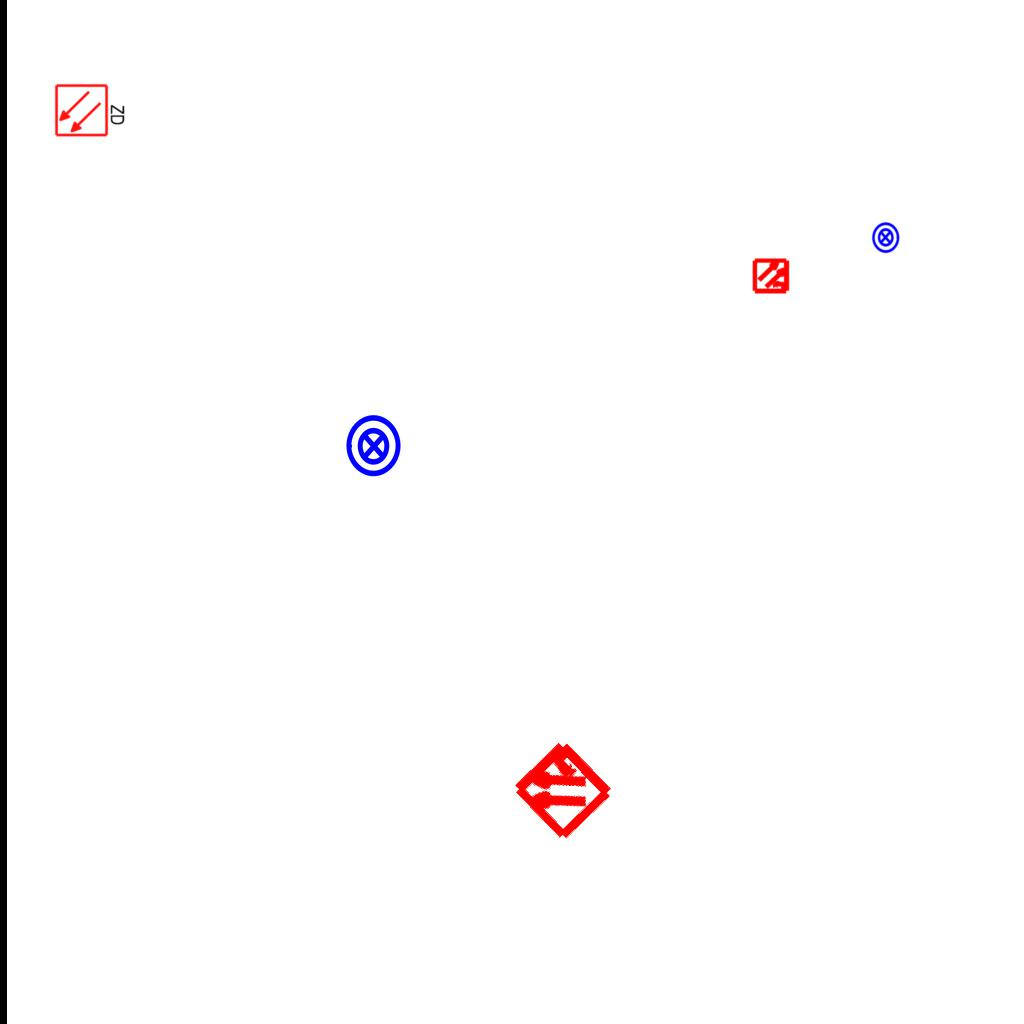OT_Multisensormelder_(Kombination_RMO_WMD): (481, 708, 642, 869), (744, 248, 800, 304)
Taster_beleuchtet: (341, 413, 407, 479), (869, 221, 902, 254)
ZD_Melder_in_Zwischendecke_mit_Revisionsoeffnung_mind_40_x_40_cm: (54, 81, 128, 138)
